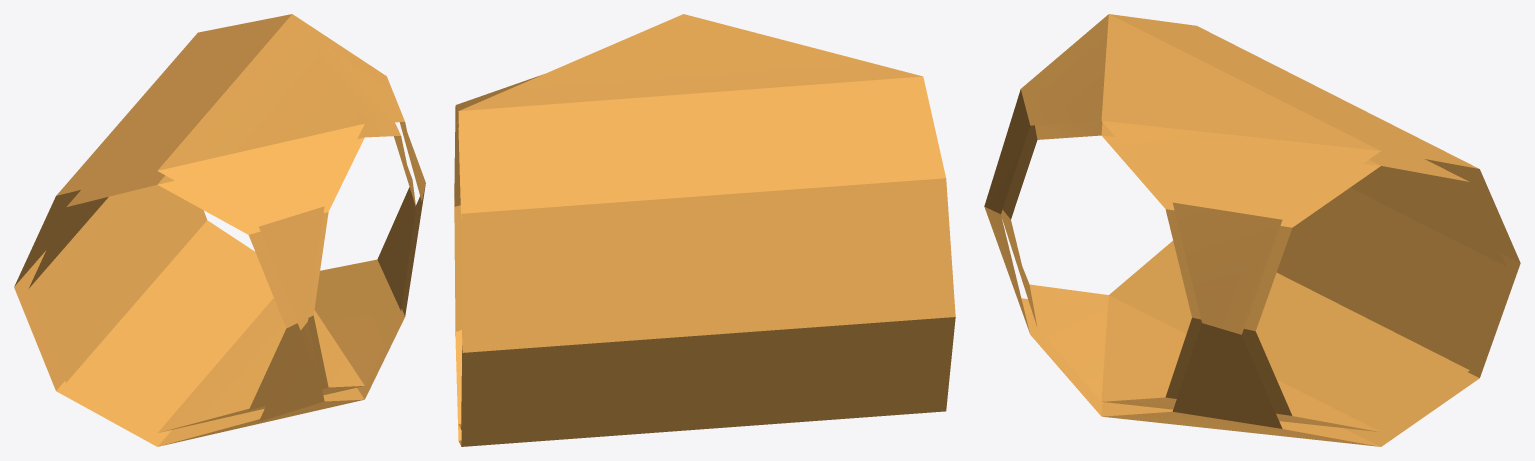
The model's file is HollowBranch_Y_Junction.fbx.
3 views of the same model, side by side, from view 1: azimuth 30°, elevation 25°; view 2: azimuth 150°, elevation 25°; view 3: azimuth 270°, elevation 25° (orthographic). The views are drawn at different scales.
Visible parts, largest first — view 1: HollowBranch1-c; view 2: HollowBranch1-c; view 3: HollowBranch1-c.
Part boxes in pixels (bbox=[...]): HollowBranch1-c: bbox=[14, 14, 425, 446]; HollowBranch1-c: bbox=[454, 14, 955, 446]; HollowBranch1-c: bbox=[984, 14, 1520, 446].
Size of the model in its own units: 3153 by 2000 by 3286.
